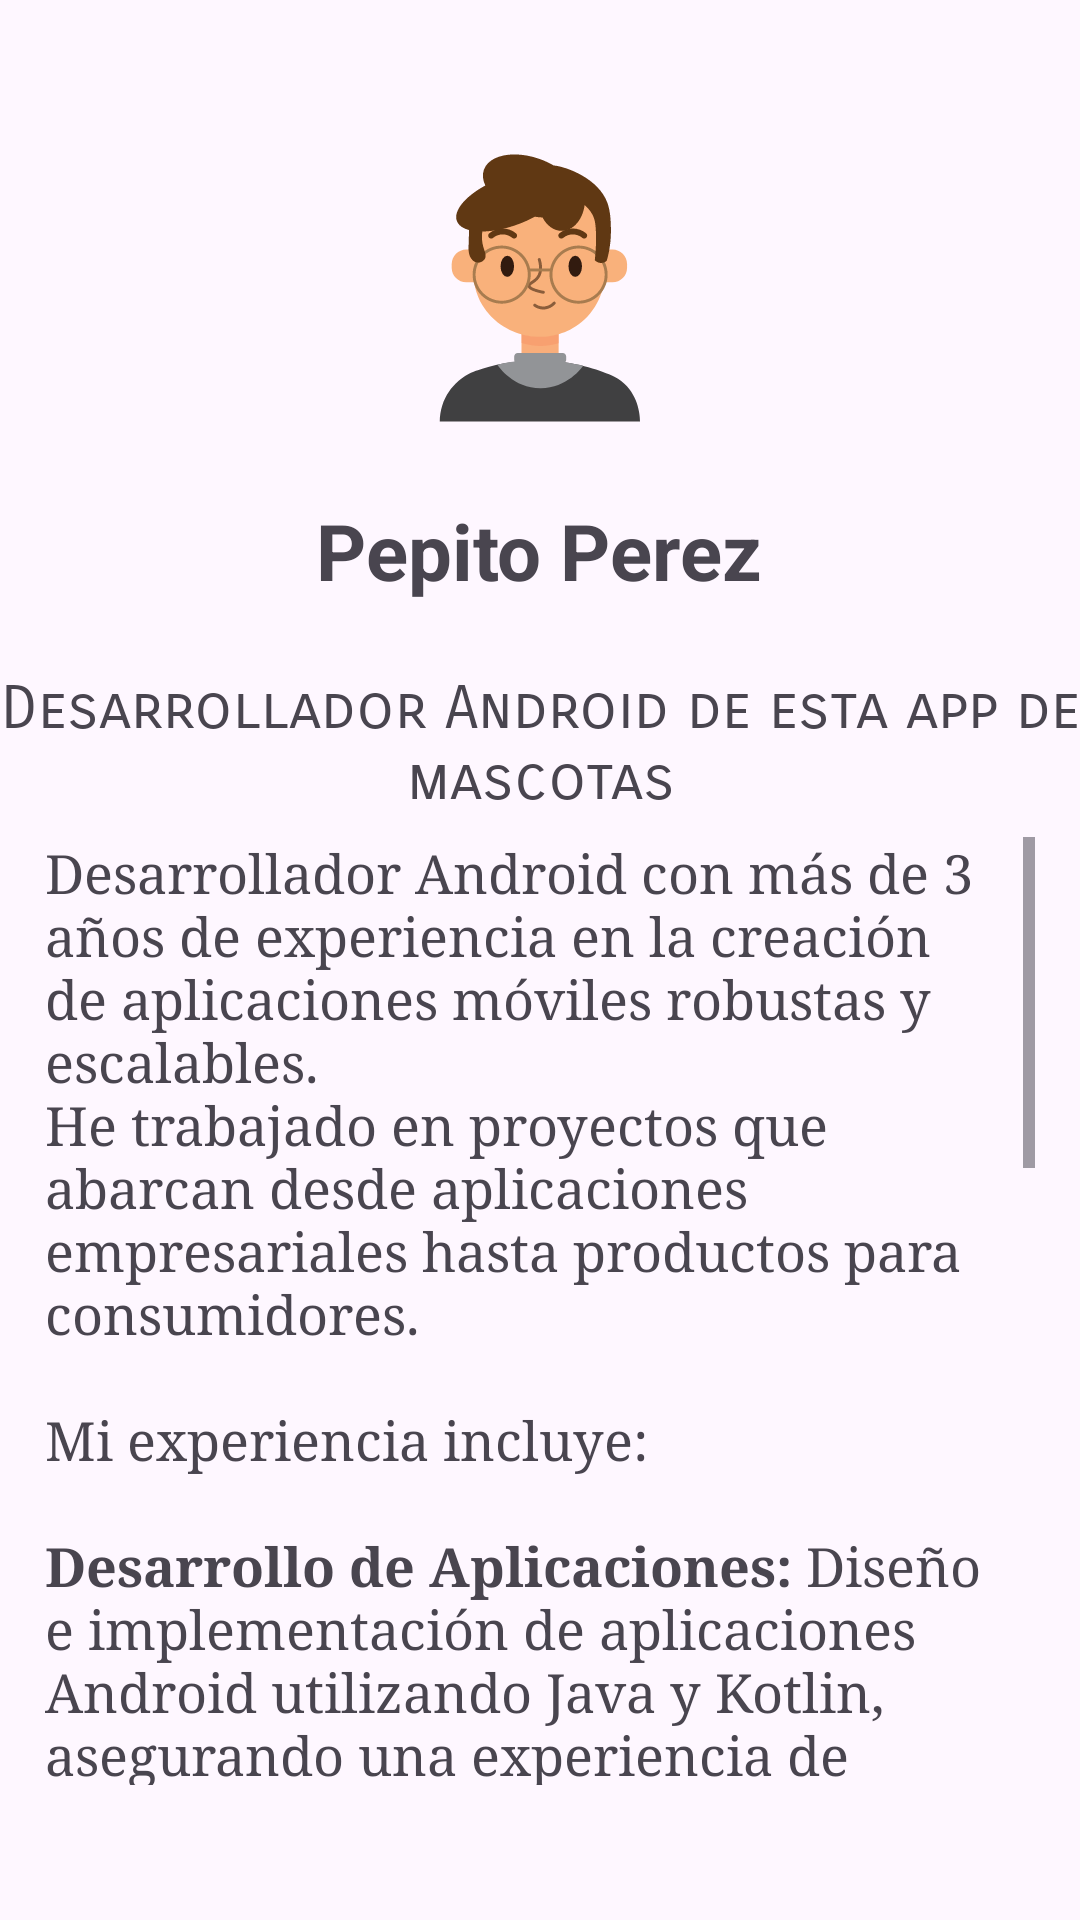

Where icons sit on this 1080 × 1920 app screen, as box(x1, y1, x2, y2):
person: box(439, 154, 640, 422)
